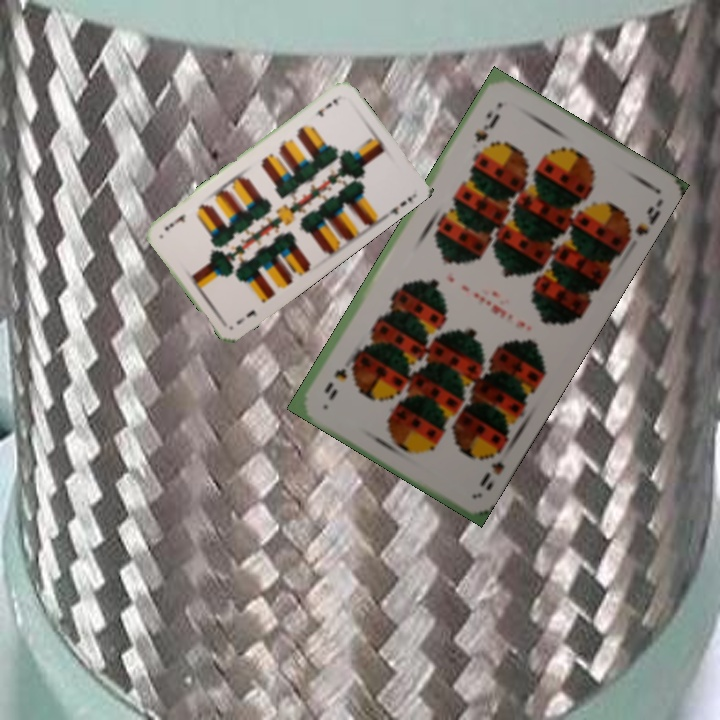E7: (310, 94, 341, 120), (232, 306, 260, 327)
S9: (475, 441, 508, 490), (470, 106, 503, 145)
